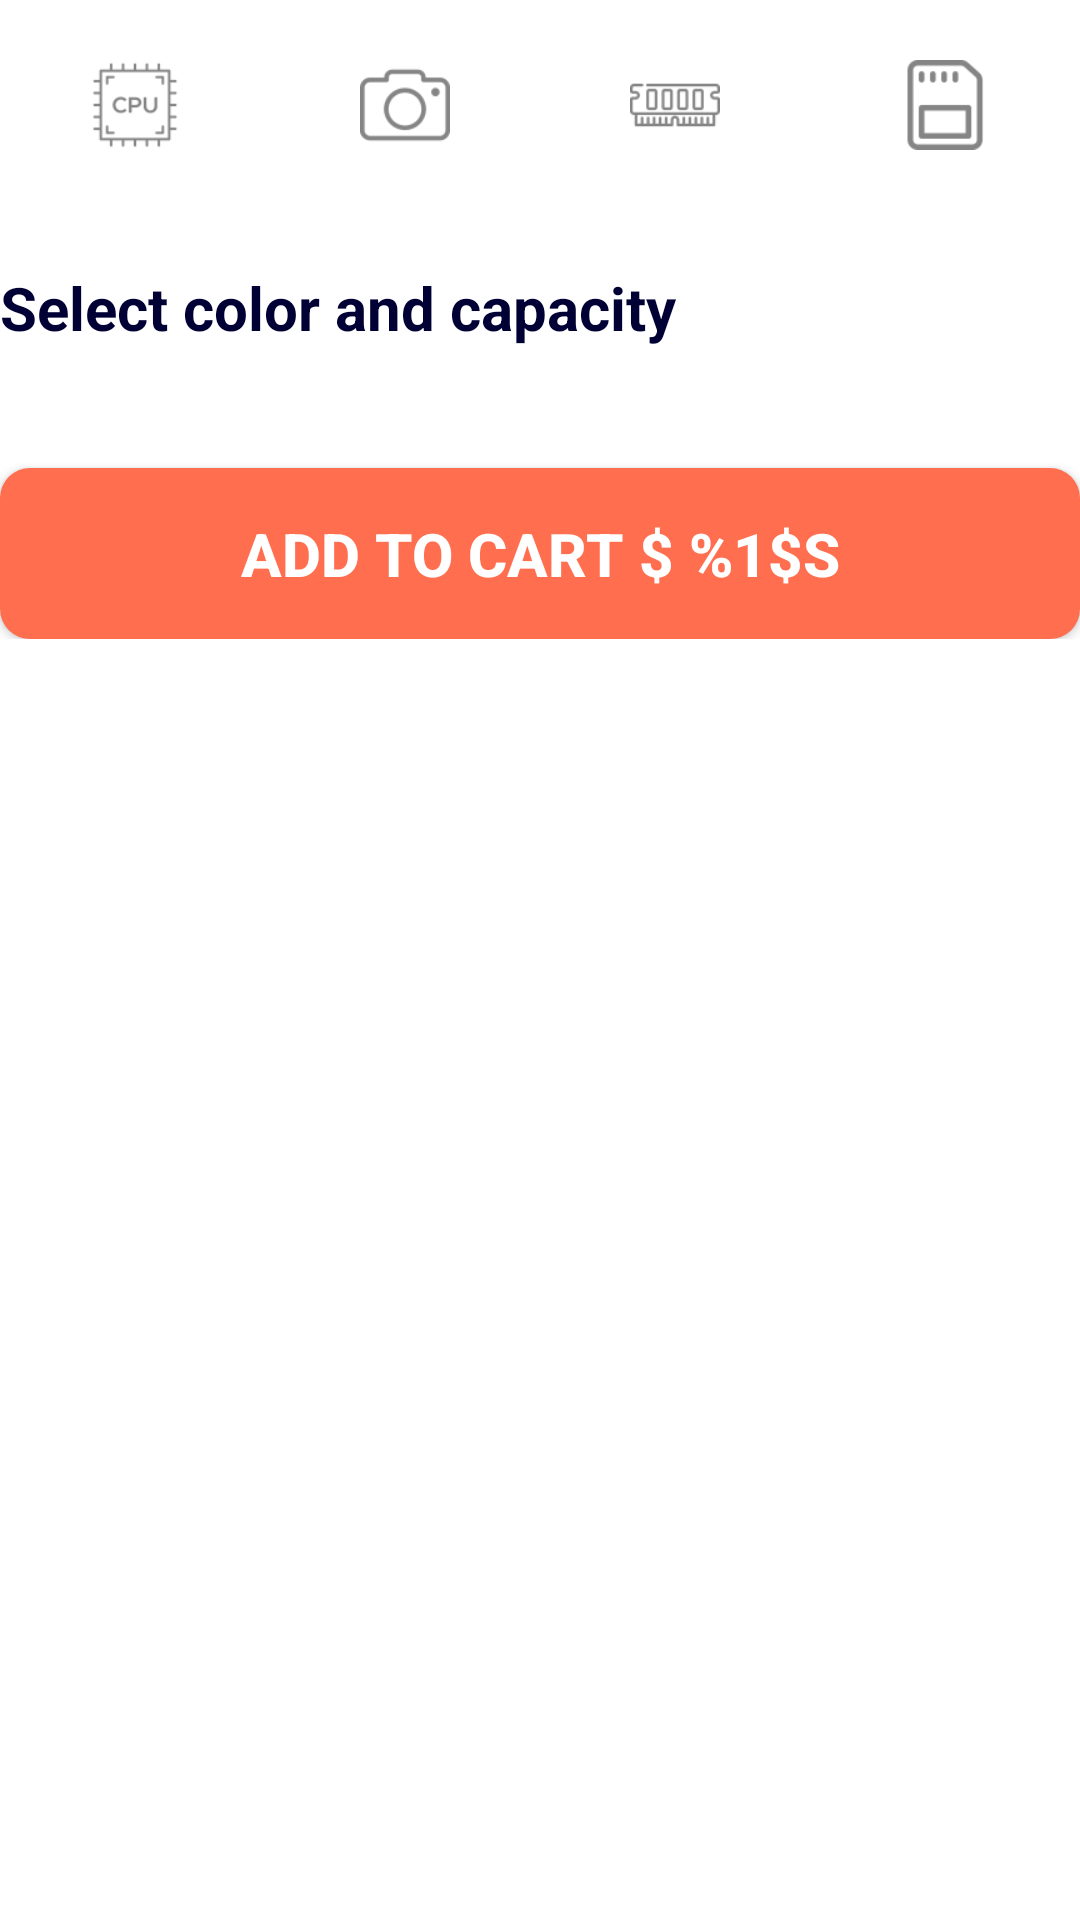

Icon click points for this 1080px x 1920px phone screenshot, format (x,y):
camera: (405,105)
memory: (945,105)
ram: (675,105)
